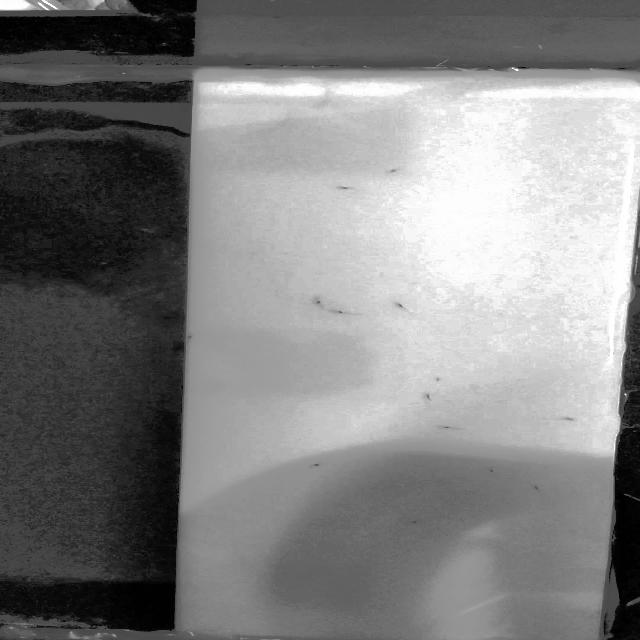shrimp: (516, 478, 554, 500), (545, 407, 583, 426), (396, 516, 432, 532), (429, 424, 463, 438), (333, 182, 360, 198), (377, 162, 410, 175), (327, 304, 352, 321), (386, 301, 419, 312), (294, 459, 336, 467), (482, 464, 505, 476), (415, 389, 436, 402), (304, 298, 330, 308)
